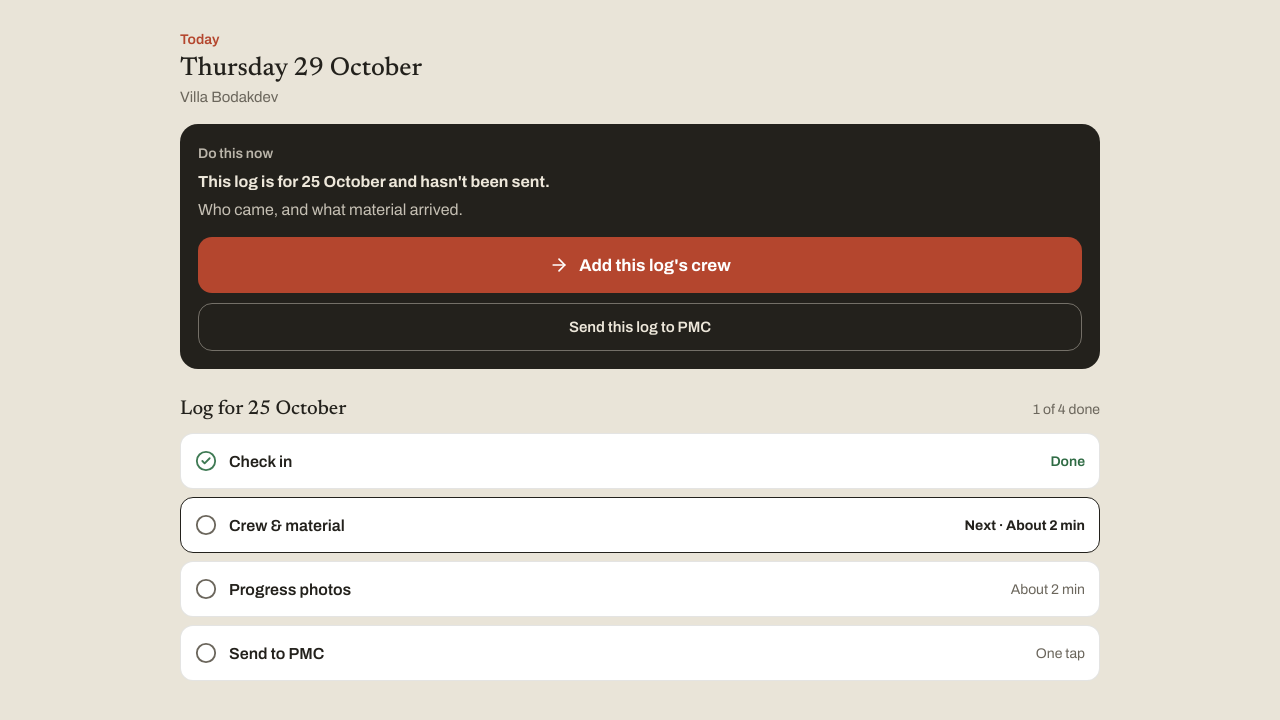
it: U1b — "Same as yesterday (N)": the last log's count for this trade › an earlier day's unsent log never says "yesterday" (nor "today")
Click the button with test id "today-action". click: (640,265)
box: left=198, top=237, right=1082, bottom=293
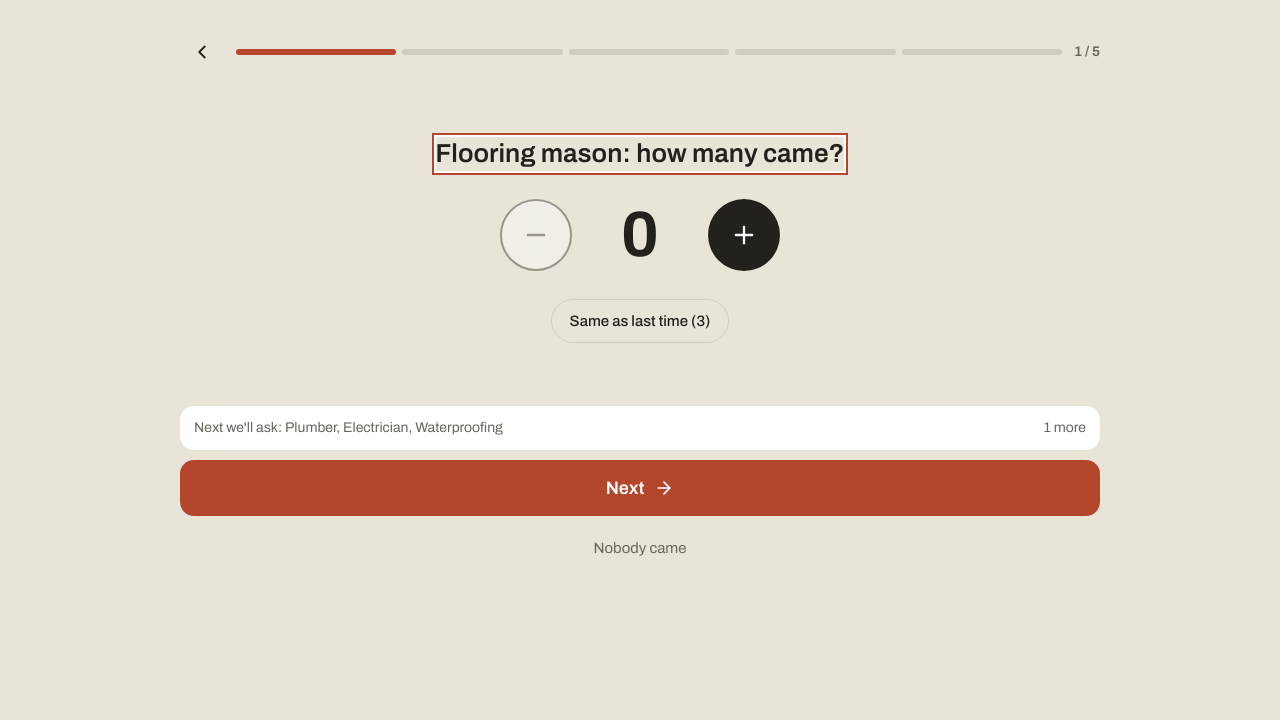
Result: the button with test id "crew-same" reads "Same as last time (3)" at left=551, top=299, right=729, bottom=343
